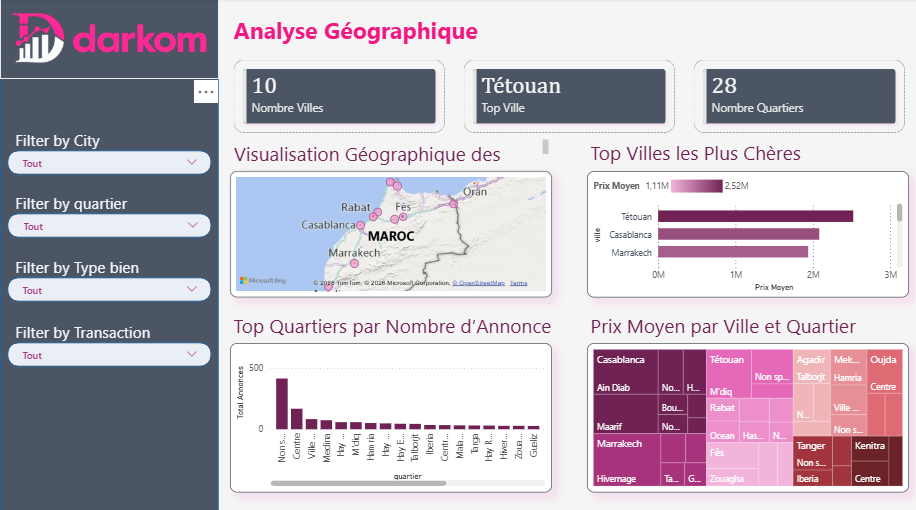

This screenshot's page, from the dashboard's own definition file:
{"tool":"powerbi","page":{"name":"analyse geographique","canvas":[1280,720],"ordinal":2},"visuals":[{"type":"shape","box":[0,0,1280,719.4],"z":0},{"type":"shape","box":[0,0,304,720],"z":1000},{"type":"image","box":[0,0,304,112],"z":2000},{"type":"textbox","title":"titel","box":[320,16,688,64],"z":3000},{"type":"cardVisual","title":"averege price per m² (card)","fields":{"Data":["bi_schema dim_localisation.Nombre Villes"]},"box":[320,80,304,112],"z":4000},{"type":"cardVisual","title":"averege price per m² (card)","fields":{"Data":["bi_schema dim_localisation.Nombre Quartiers"]},"box":[960,80,304,112],"z":5000},{"type":"cardVisual","title":"averege price per m² (card)","fields":{"Data":["bi_schema dim_localisation.Top Ville"]},"box":[640,80,304,112],"z":6000},{"type":"barChart","fields":{"Y":["bi_schema fact_annonces.Prix Moyen"],"Category":["bi_schema dim_localisation.ville"]},"box":[816,240,448,176],"z":7000},{"type":"columnChart","fields":{"Category":["bi_schema dim_localisation.quartier"],"Y":["bi_schema fact_annonces.Total Annonces"]},"box":[320,480,448,208],"z":8000},{"type":"shape","box":[6.9,209.1,290.2,40.2],"z":9000},{"type":"slicer","fields":{"Values":["bi_schema dim_localisation.ville"]},"box":[15.6,204.8,273.9,40.6],"z":10000},{"type":"treemap","fields":{"Values":["bi_schema fact_annonces.Prix Moyen"],"Group":["bi_schema dim_localisation.ville"],"Details":["bi_schema dim_localisation.quartier"]},"box":[816,480,448,208],"z":11000},{"type":"textbox","title":"titel","box":[16.2,178.4,272,48],"z":12000},{"type":"shape","box":[7.5,296.5,290.2,40.2],"z":13000},{"type":"slicer","fields":{"Values":["bi_schema dim_localisation.quartier"]},"box":[16.2,292.1,273.9,40.6],"z":14000},{"type":"textbox","title":"titel","box":[16.9,265.7,272,48],"z":15000},{"type":"shape","box":[7.3,385.9,290.2,40.2],"z":16000},{"type":"slicer","fields":{"Values":["bi_schema dim_bien.type_bien"]},"box":[15.9,381.5,273.9,40.6],"z":17000},{"type":"textbox","title":"titel","box":[16.6,355.1,272,48],"z":18000},{"type":"textbox","title":"titel","box":[320,192,448,48],"z":19000},{"type":"textbox","title":"titel","box":[816,192,416,48],"z":20000},{"type":"textbox","title":"titel","box":[320,432,464,48],"z":21000},{"type":"textbox","title":"titel","box":[816,432,432,48],"z":22000},{"type":"shape","box":[7.3,476.5,290.2,40.2],"z":23000},{"type":"slicer","fields":{"Values":["bi_schema dim_bien.transaction"]},"box":[16,472.1,273.9,40.6],"z":24000},{"type":"textbox","title":"titel","box":[16.6,445.7,272,48],"z":25000},{"type":"map","fields":{"Category":["bi_schema dim_localisation.ville"],"Size":["bi_schema fact_annonces.Total Annonces"]},"box":[320,240,448,176],"z":26000}]}

Visuals, with their boxes on the page's 1280x720 design canvas (x1, y1, x2, y2). These are canvas units, not pixel positions in the 916x510 screenshot, which may show the page scaled, cropped or inside an application window:
shape: bbox=[0, 0, 1280, 719]
shape: bbox=[0, 0, 304, 720]
image: bbox=[0, 0, 304, 112]
"titel" textbox: bbox=[320, 16, 1008, 80]
"averege price per m² (card)" cardVisual: bbox=[320, 80, 624, 192]
"averege price per m² (card)" cardVisual: bbox=[960, 80, 1264, 192]
"averege price per m² (card)" cardVisual: bbox=[640, 80, 944, 192]
barChart - bi_schema fact_annonces.Prix Moyen x bi_schema dim_localisation.ville: bbox=[816, 240, 1264, 416]
columnChart - bi_schema dim_localisation.quartier x bi_schema fact_annonces.Total Annonces: bbox=[320, 480, 768, 688]
shape: bbox=[7, 209, 297, 249]
slicer - bi_schema dim_localisation.ville: bbox=[16, 205, 290, 245]
treemap - bi_schema fact_annonces.Prix Moyen x bi_schema dim_localisation.ville: bbox=[816, 480, 1264, 688]
"titel" textbox: bbox=[16, 178, 288, 226]
shape: bbox=[8, 296, 298, 337]
slicer - bi_schema dim_localisation.quartier: bbox=[16, 292, 290, 333]
"titel" textbox: bbox=[17, 266, 289, 314]
shape: bbox=[7, 386, 298, 426]
slicer - bi_schema dim_bien.type_bien: bbox=[16, 382, 290, 422]
"titel" textbox: bbox=[17, 355, 289, 403]
"titel" textbox: bbox=[320, 192, 768, 240]
"titel" textbox: bbox=[816, 192, 1232, 240]
"titel" textbox: bbox=[320, 432, 784, 480]
"titel" textbox: bbox=[816, 432, 1248, 480]
shape: bbox=[7, 476, 298, 517]
slicer - bi_schema dim_bien.transaction: bbox=[16, 472, 290, 513]
"titel" textbox: bbox=[17, 446, 289, 494]
map - bi_schema dim_localisation.ville x bi_schema fact_annonces.Total Annonces: bbox=[320, 240, 768, 416]
